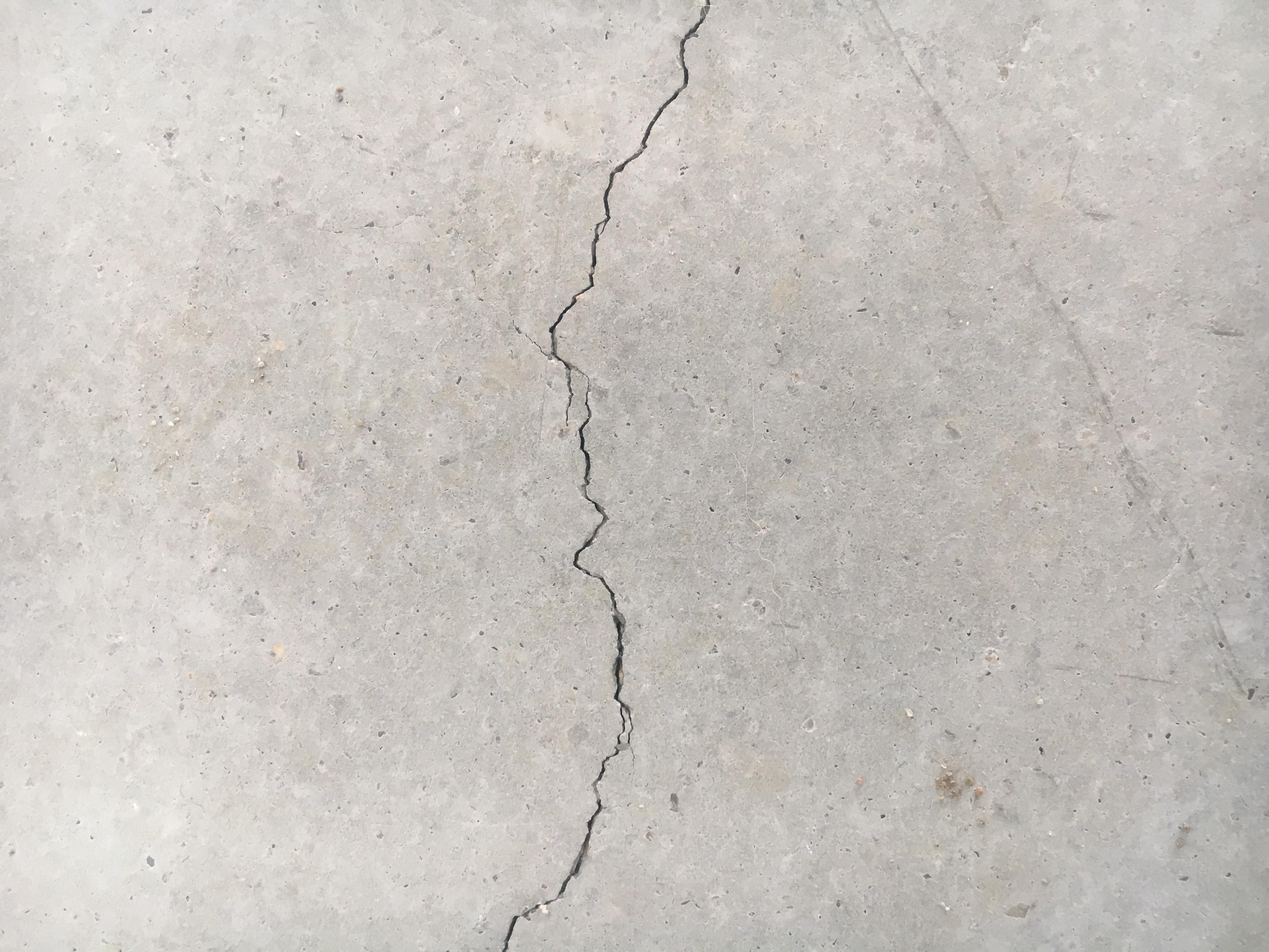Vertical Crack: (497, 2, 712, 947)
